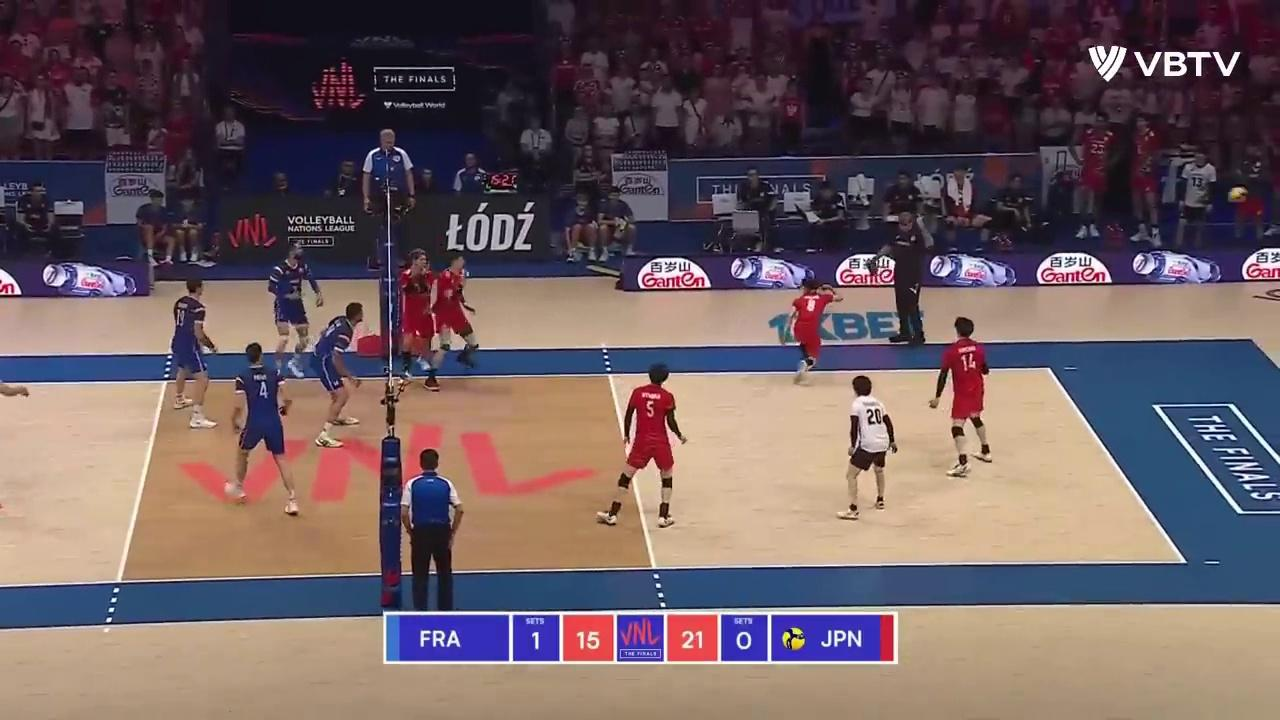ball: (1228, 188, 1248, 206)
